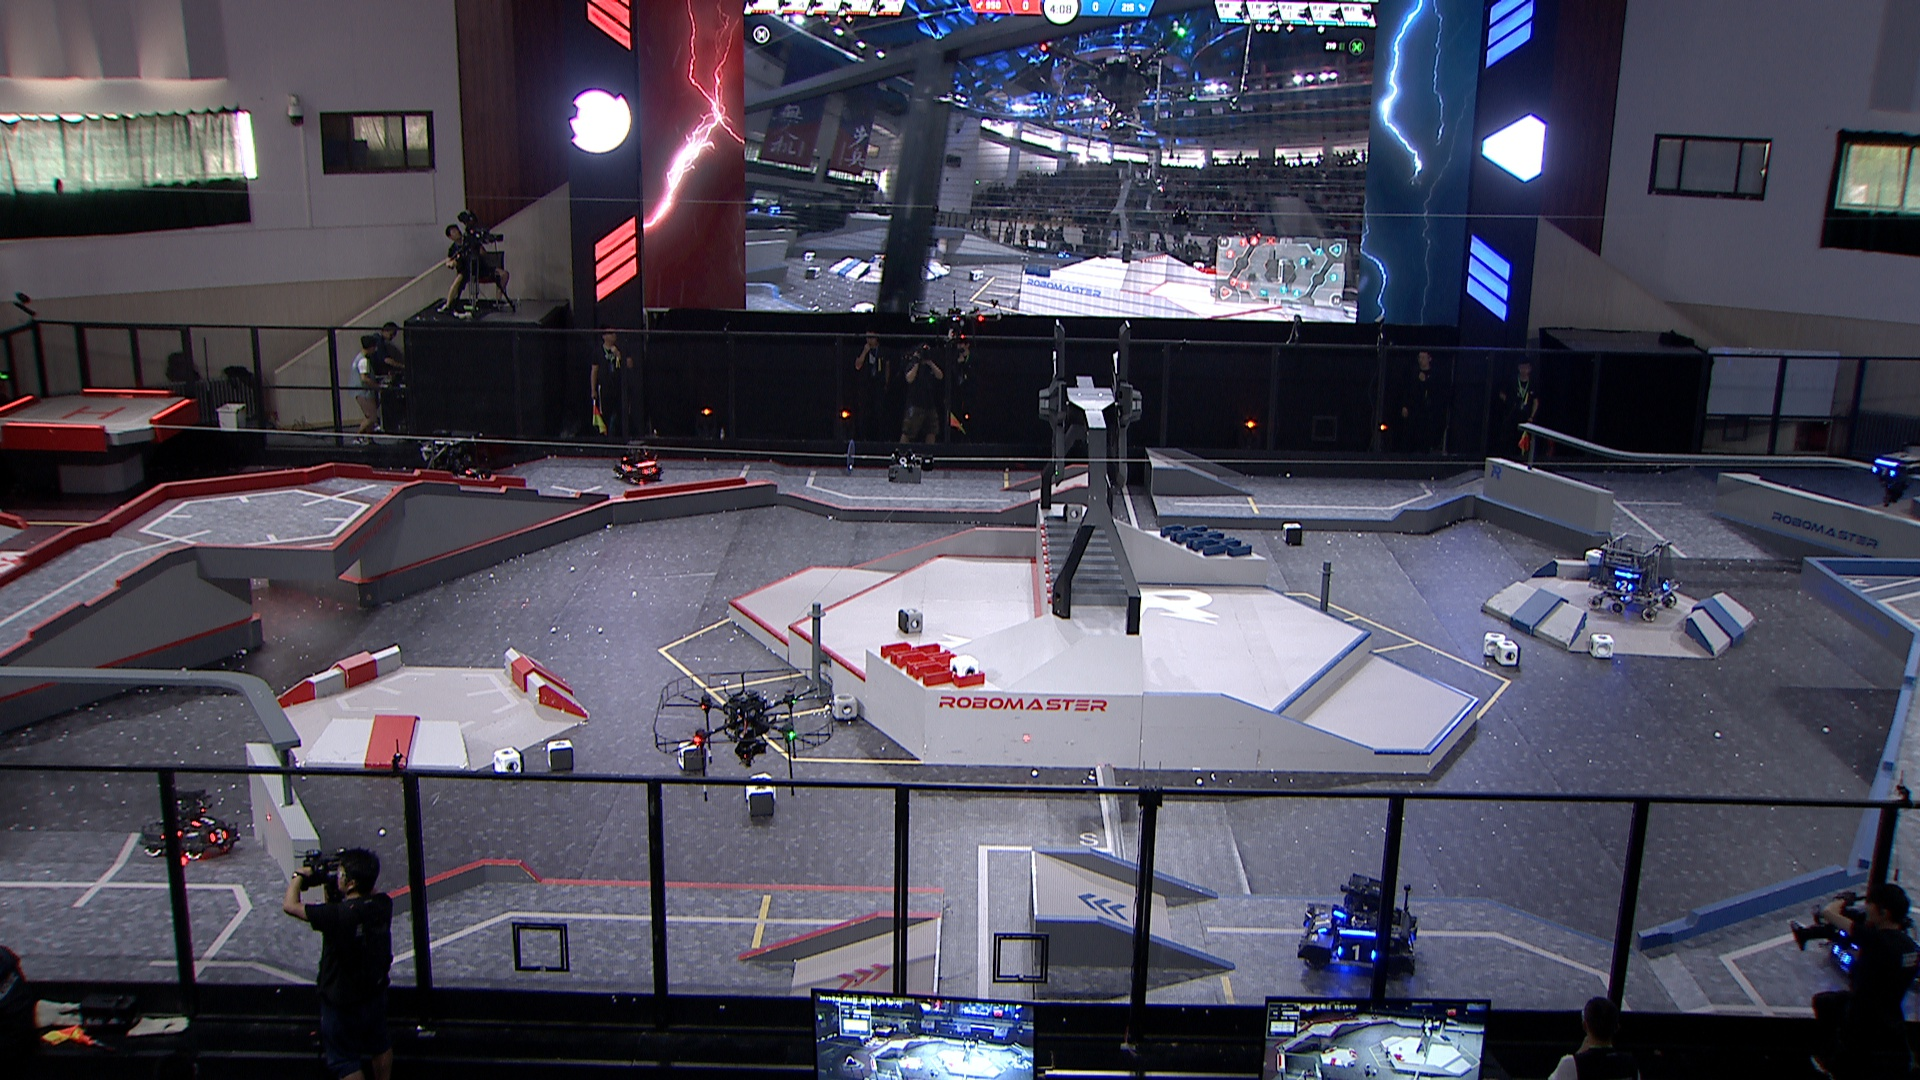armor: (1337, 944, 1378, 964), (1313, 913, 1333, 936), (190, 815, 222, 829), (1833, 944, 1854, 965), (1870, 463, 1898, 479), (208, 825, 229, 845), (1613, 579, 1633, 593), (1404, 938, 1418, 955), (640, 465, 659, 476), (463, 465, 481, 476), (618, 462, 633, 475), (1662, 579, 1673, 593), (473, 472, 489, 483)
car: (1294, 874, 1419, 978), (1585, 531, 1681, 621), (138, 785, 243, 862), (1820, 907, 1920, 986), (419, 427, 495, 491), (612, 438, 665, 488)
ignore: (756, 199, 782, 215)
watcher: (1870, 450, 1920, 506)
